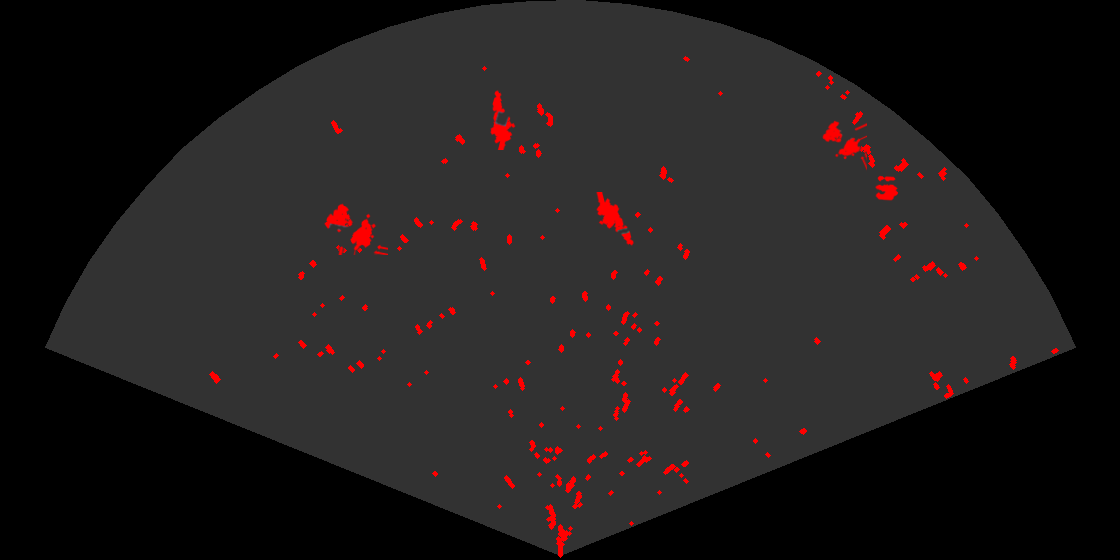ball: (874, 174, 900, 202)
cage: (323, 202, 388, 255), (821, 119, 867, 172)
frogman: (595, 192, 635, 248), (489, 88, 517, 150)
